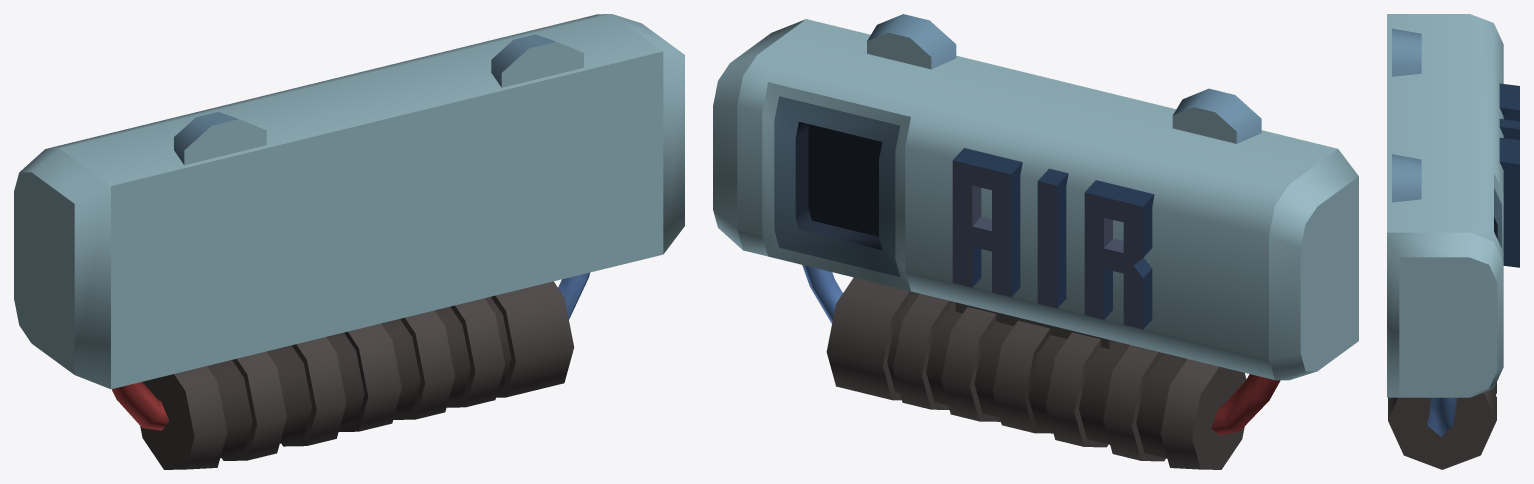
Rendered from Air Alarm.fbx.
3 views of the same model, side by side, from view 1: azimuth 30°, elevation 25°; view 2: azimuth 150°, elevation 25°; view 3: azimuth 270°, elevation 25° (orthographic). The views are drawn at different scales.
Parts seen in each view (by area): view 1: Air Alarm; view 2: Air Alarm; view 3: Air Alarm.
Part boxes in pixels (bbox=[...]): Air Alarm: bbox=[14, 14, 684, 469]; Air Alarm: bbox=[713, 14, 1358, 469]; Air Alarm: bbox=[1387, 14, 1519, 469].
Size of the model in its own units: 0.7888 by 0.4549 by 0.1831.
